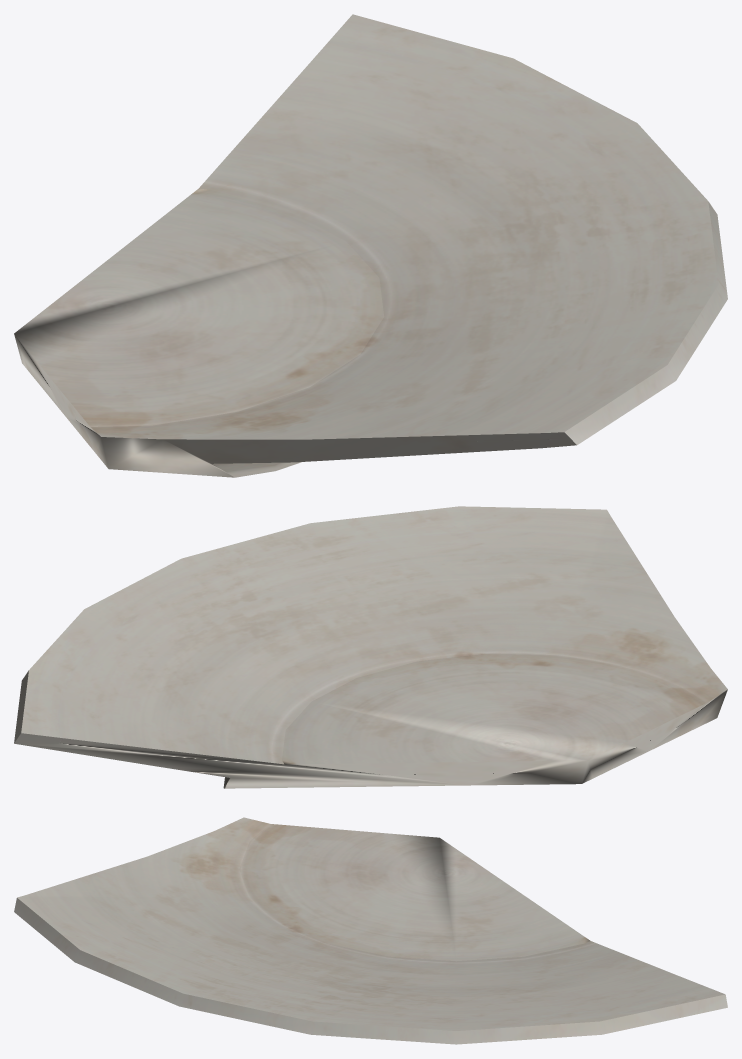
Rendered from PlateRegularShardC.fbx.
3 views of the same model, one above another, from view 1: azimuth 30°, elevation 25°; view 2: azimuth 150°, elevation 25°; view 3: azimuth 270°, elevation 25° (orthographic). The views are drawn at different scales.
Parts seen in each view (by area): view 1: Default_Layer; view 2: Default_Layer; view 3: Default_Layer.
Boxes of the visible parts, box(x1,y1,x2,y2) form: Default_Layer: box(14, 14, 727, 477); Default_Layer: box(14, 506, 727, 788); Default_Layer: box(14, 817, 727, 1044).
Size of the model in its own units: 51 by 5.6 by 62.16.
